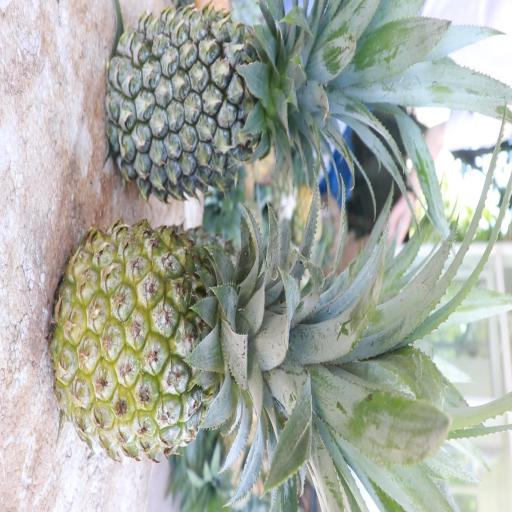------------------------------: (45, 217, 337, 466)
